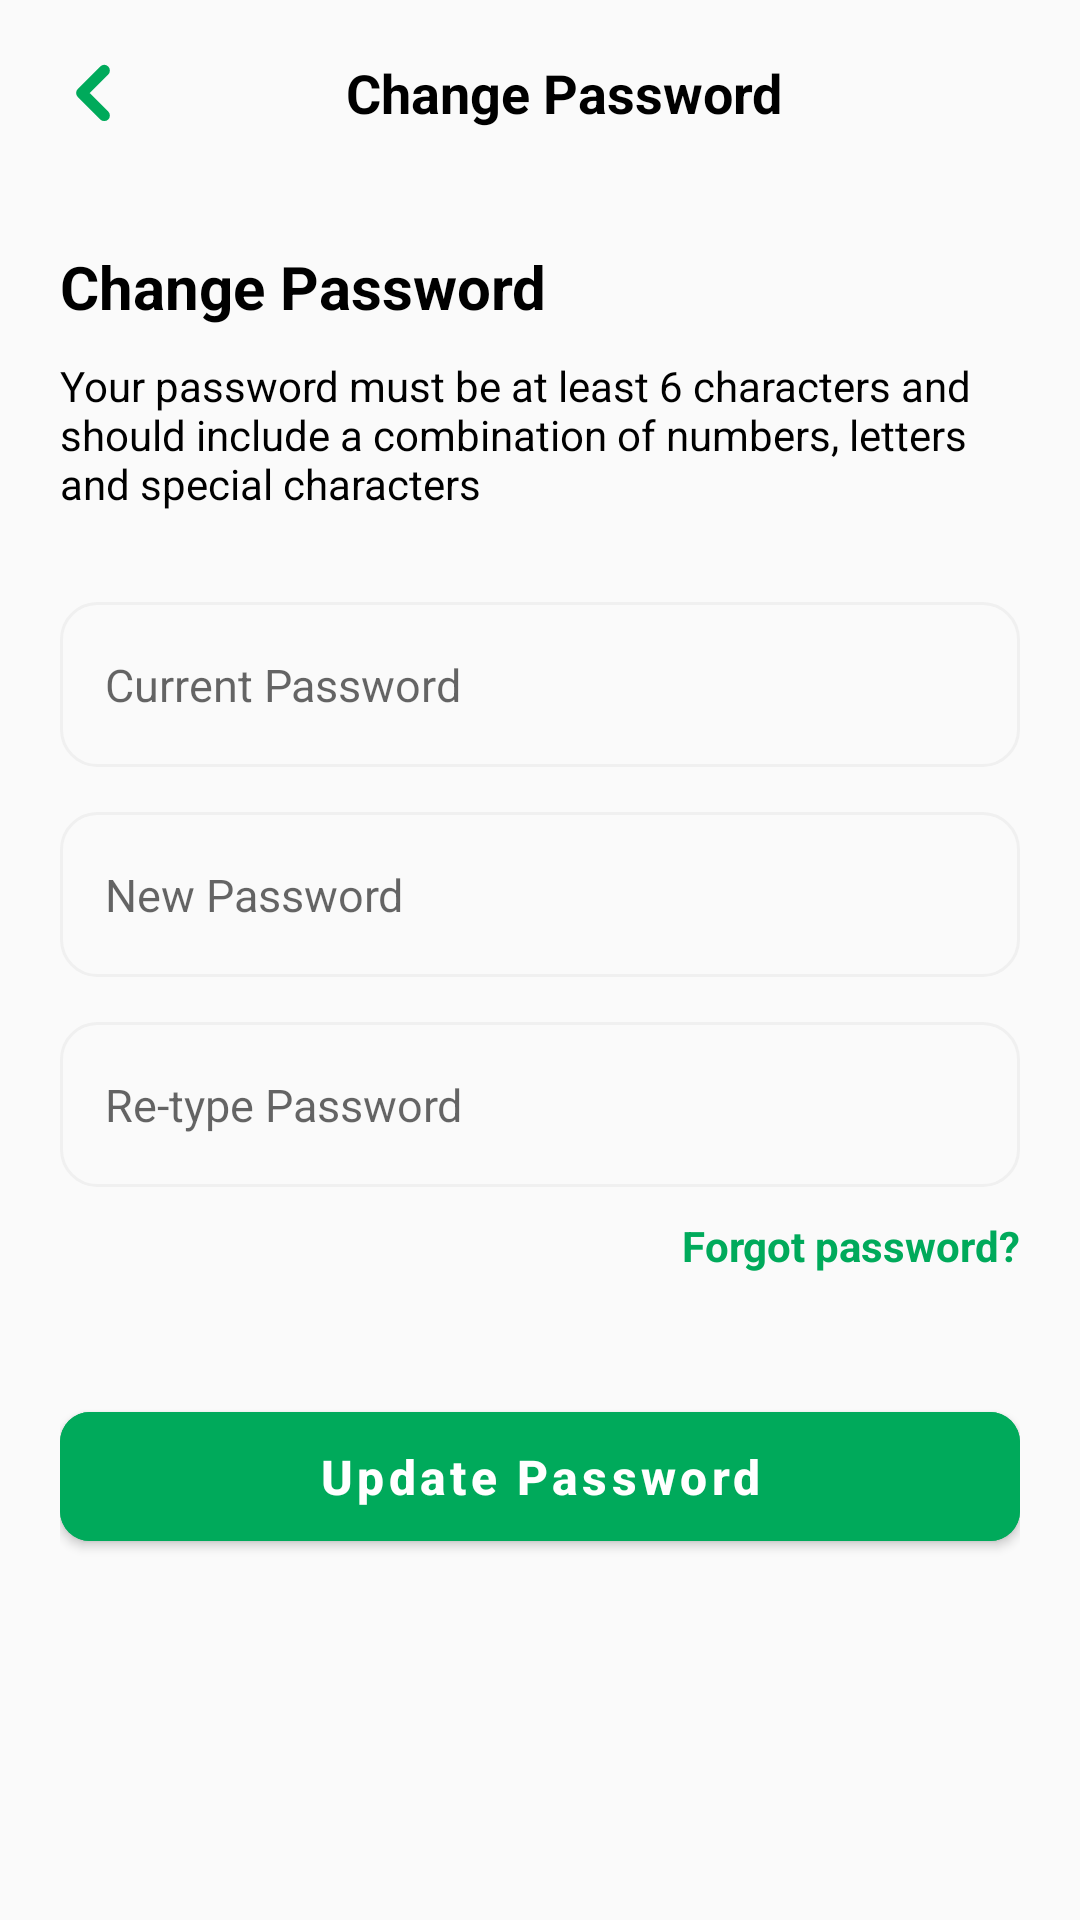

Named icons in this screenshot (1080*1920) and their centers, (x=x, y=y):
Back: (x=93, y=92)
